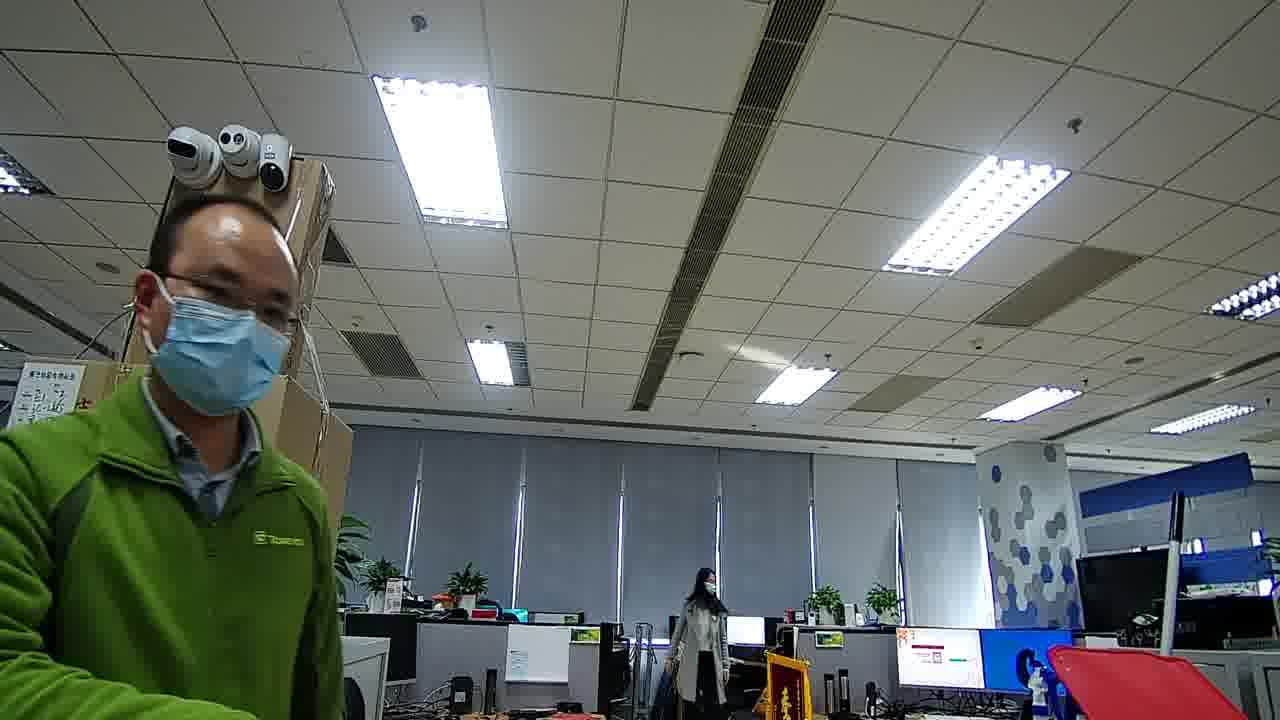face: (142, 223, 306, 417), (703, 573, 718, 595)
mask: (156, 292, 293, 416)
person: (25, 160, 369, 560)
